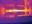Hotspot: (1, 10, 31, 12)
